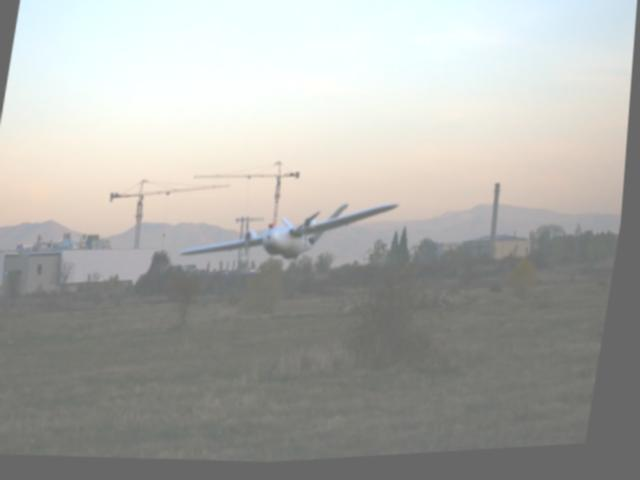plane: (178, 185, 406, 283)
